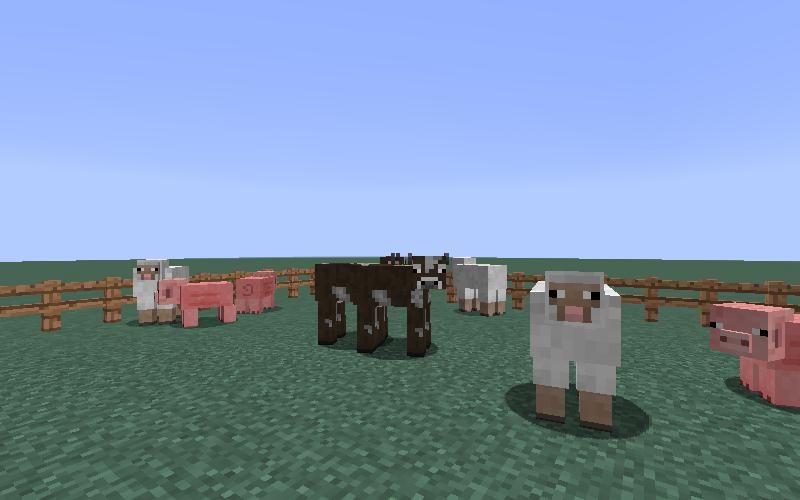cow: (357, 254, 447, 356)
pig: (710, 301, 800, 408), (152, 275, 236, 333), (233, 266, 277, 317)
sheep: (521, 269, 625, 431), (448, 253, 509, 323)
